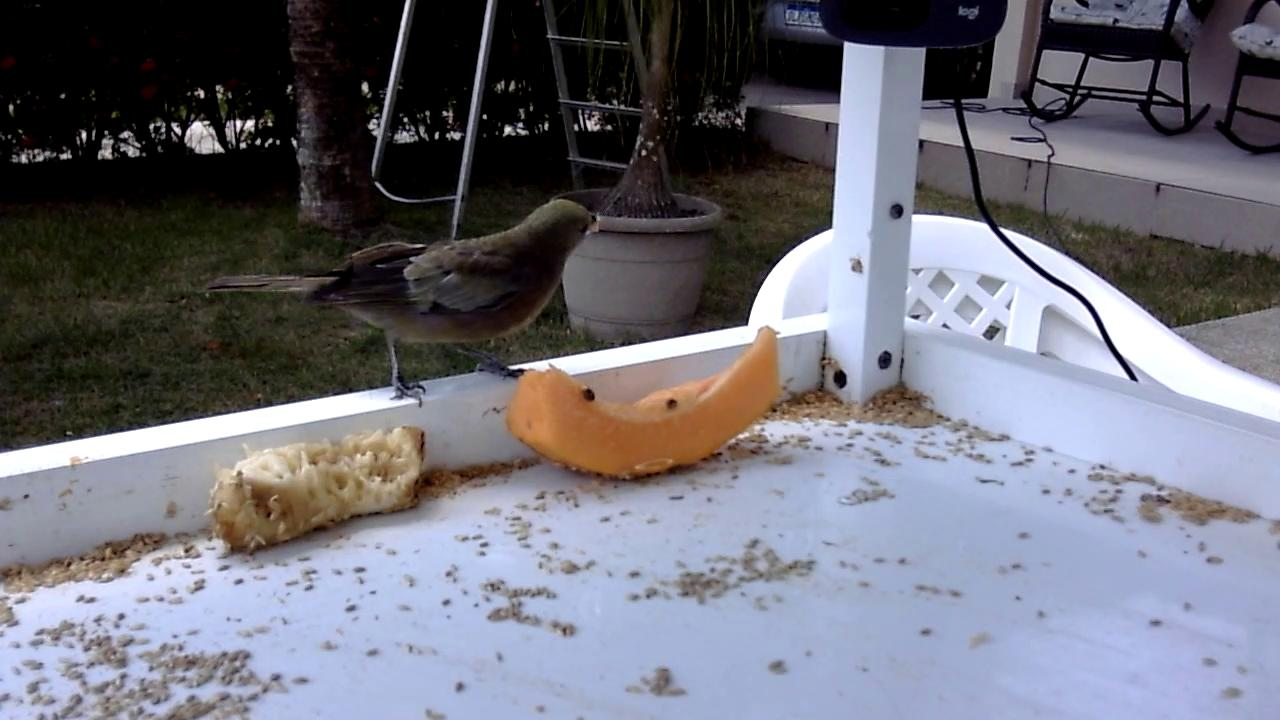sanhaco_do_coqueiro: (204, 195, 605, 411)
